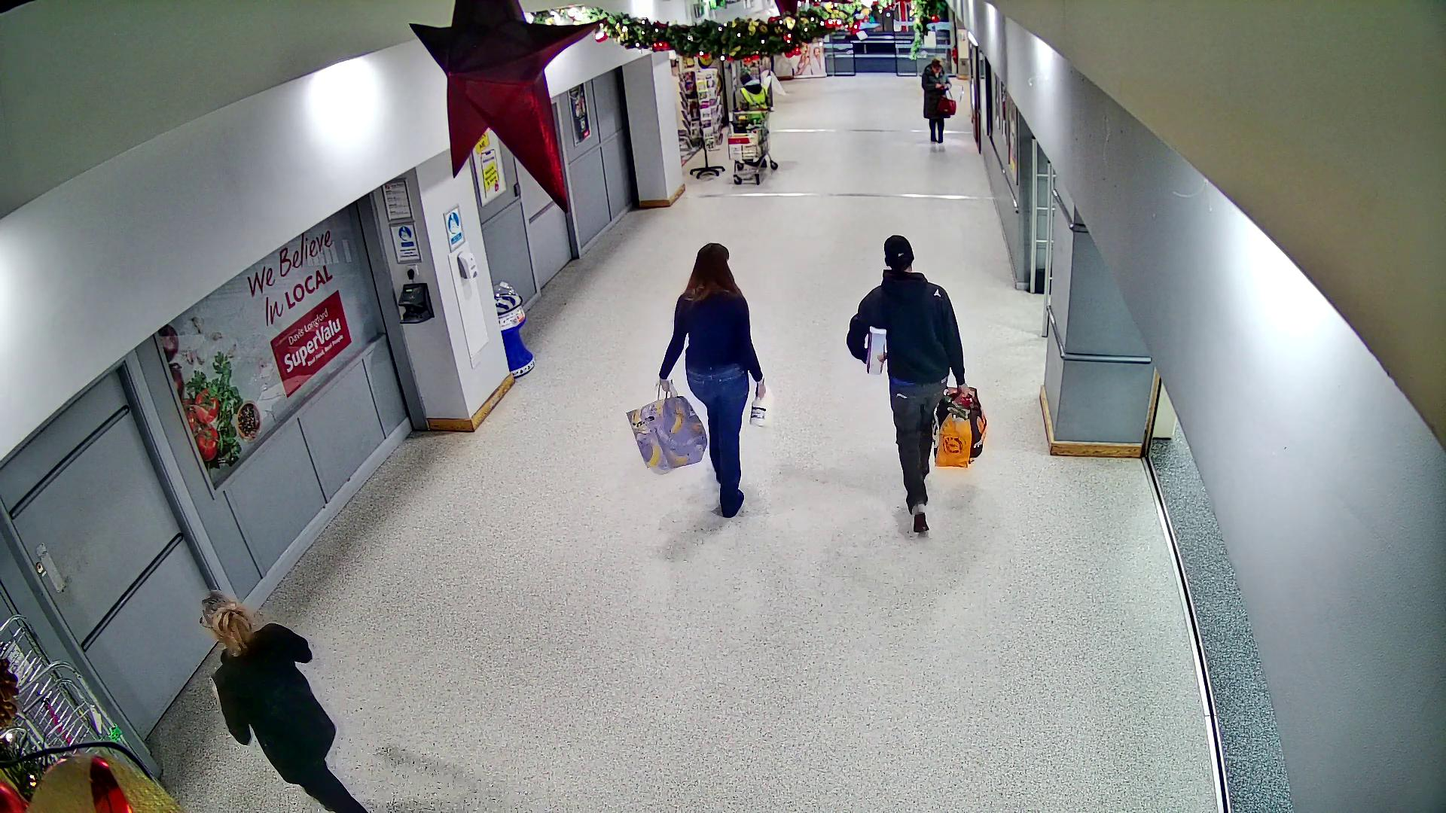carrying-item: (863, 326, 888, 375), (751, 388, 767, 426)
filled-shopping-bags: (627, 387, 708, 475), (930, 382, 988, 470)
person: (845, 235, 967, 530), (660, 242, 764, 518)
person with carrying item-s- and shopping bag-s-: (844, 235, 988, 528), (627, 241, 768, 517)
